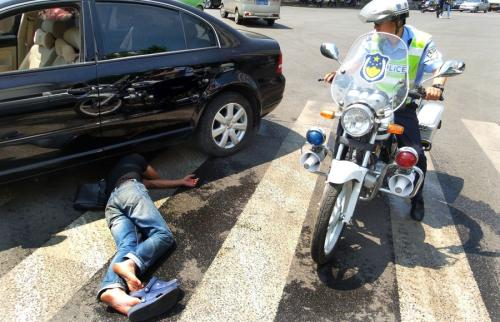fall: (84, 138, 209, 321)
